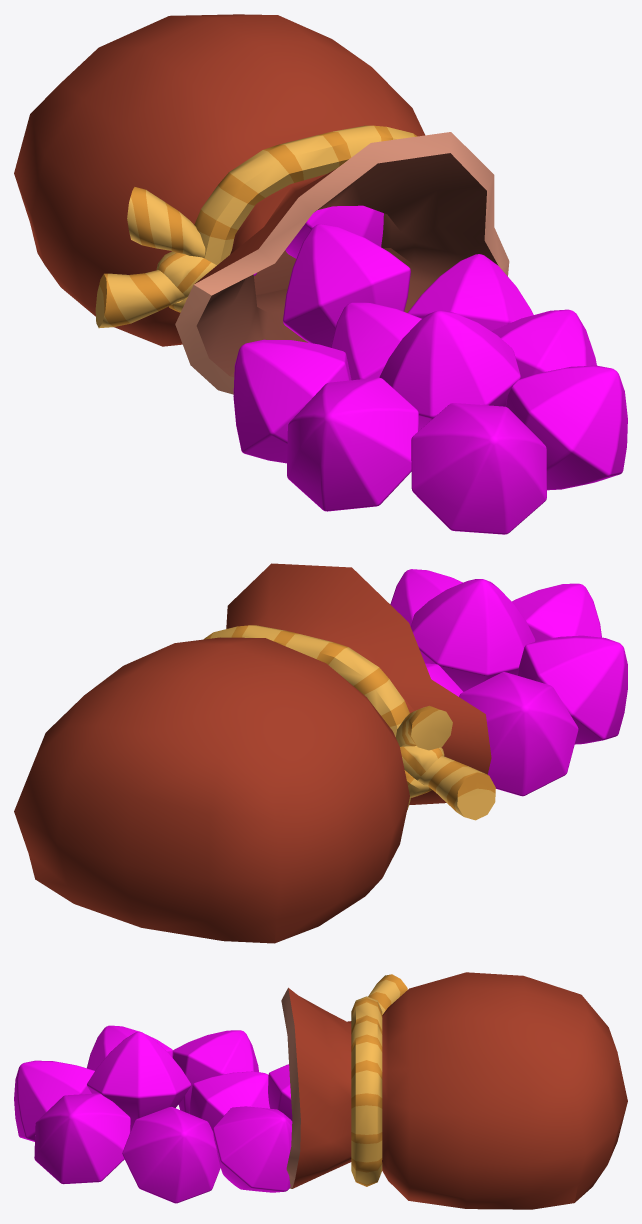
The picture shows the model from 3 angles, top to bottom: view 1: azimuth 30°, elevation 25°; view 2: azimuth 150°, elevation 25°; view 3: azimuth 270°, elevation 25°; orthographic projection. The views are drawn at different scales.
Parts seen in each view (by area): view 1: model_0.116; view 2: model_0.116; view 3: model_0.116.
Boxes of the visible parts, <box> form: model_0.116: <box>14,14,627,534</box>; model_0.116: <box>14,563,627,943</box>; model_0.116: <box>14,972,627,1209</box>.
Size of the model in its own units: 4.14 by 2.54 by 7.78.
